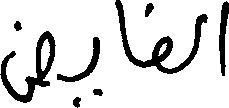X: (0, 16, 54, 107), (152, 0, 171, 78), (187, 9, 205, 70), (115, 0, 130, 66), (218, 0, 228, 80), (90, 32, 99, 100)
